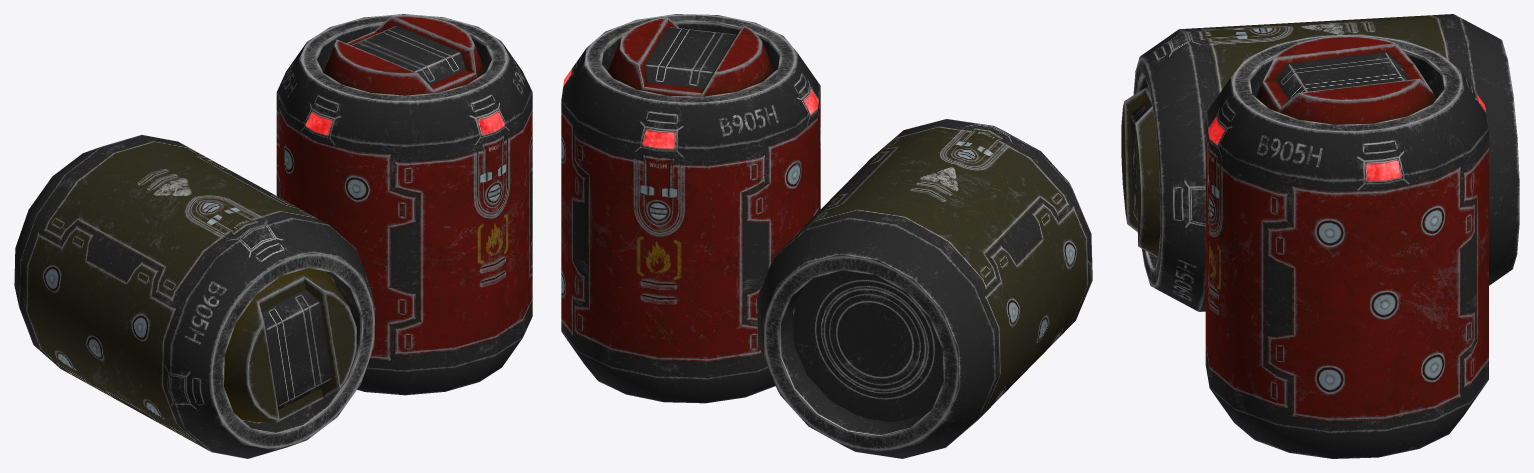
3 views of the same model, side by side, from view 1: azimuth 30°, elevation 25°; view 2: azimuth 150°, elevation 25°; view 3: azimuth 270°, elevation 25° (orthographic). The views are drawn at different scales.
Visible parts, largest first — view 1: barrel2_geo, barrel1_geo; view 2: barrel1_geo, barrel2_geo; view 3: barrel1_geo, barrel2_geo.
Part boxes in pixels (x1=…): barrel2_geo: x1=14, y1=135, x2=375, y2=458; barrel1_geo: x1=276, y1=14, x2=532, y2=395; barrel1_geo: x1=561, y1=14, x2=820, y2=403; barrel2_geo: x1=757, y1=119, x2=1092, y2=458; barrel1_geo: x1=1205, y1=34, x2=1488, y2=458; barrel2_geo: x1=1121, y1=14, x2=1519, y2=311.
Size of what is drawn, in the model's own units: 129 by 83.87 by 88.73.
2 materials, 2 textured.
